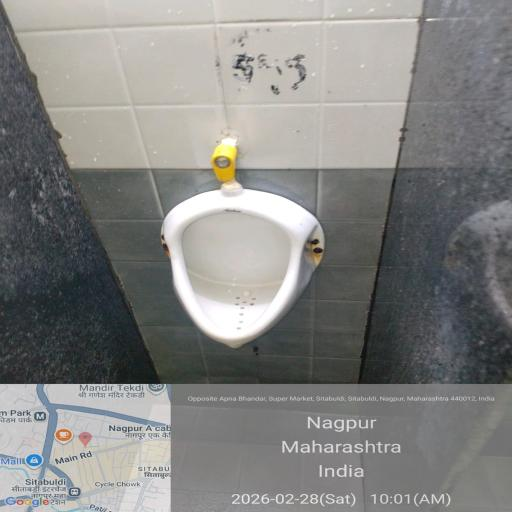clean_floor: (1, 7, 486, 181), (21, 343, 454, 512)
clean_urinal: (85, 164, 344, 370)
